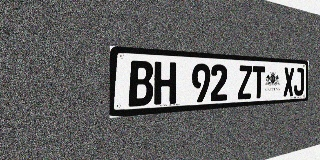2: (211, 64, 227, 101)
9: (192, 63, 210, 103)
B: (128, 60, 153, 107)
H: (154, 61, 176, 105)
J: (294, 68, 304, 96)
T: (252, 66, 265, 99)
X: (283, 67, 294, 97)
Z: (238, 65, 252, 100)
